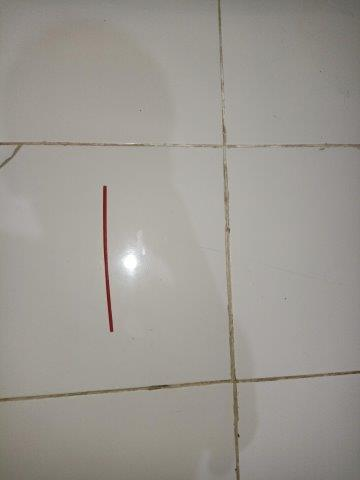sedotan: (103, 186, 114, 332)
